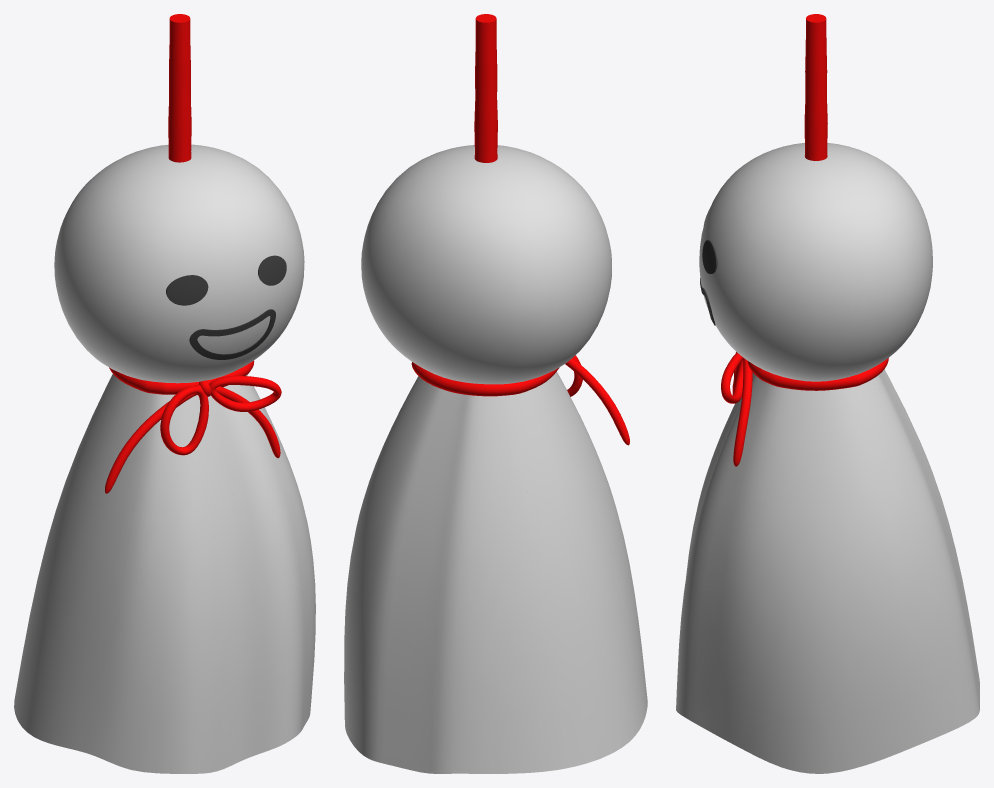
The picture shows the model from 3 angles, left to right: view 1: azimuth 30°, elevation 25°; view 2: azimuth 150°, elevation 25°; view 3: azimuth 270°, elevation 25°; orthographic projection.
Parts seen in each view (by area): view 1: 005_teruterubouzu3; view 2: 005_teruterubouzu3; view 3: 005_teruterubouzu3.
Boxes of the visible parts, bbox=[...] form: 005_teruterubouzu3: bbox=[14, 14, 315, 773]; 005_teruterubouzu3: bbox=[344, 14, 647, 773]; 005_teruterubouzu3: bbox=[676, 14, 979, 773].
Size of the model in its own units: 0.0865 by 0.2218 by 0.0873.
